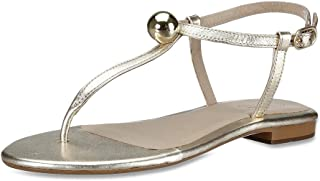shoes: (1, 1, 320, 180)
